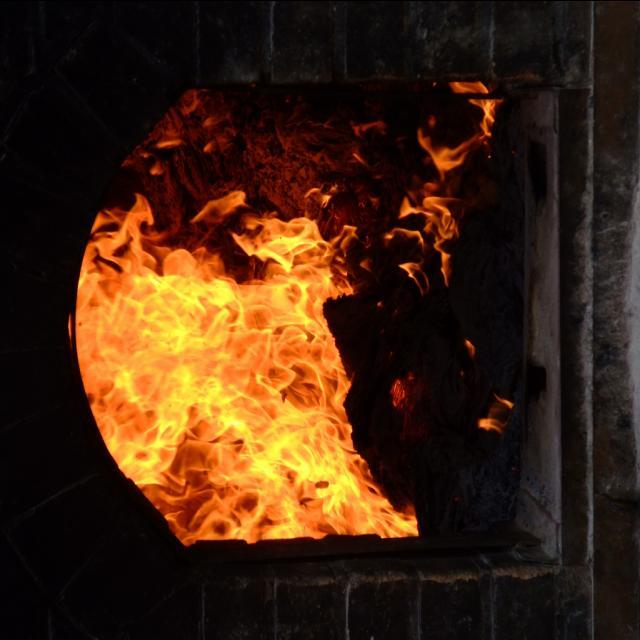Fire: (68, 81, 496, 572)
